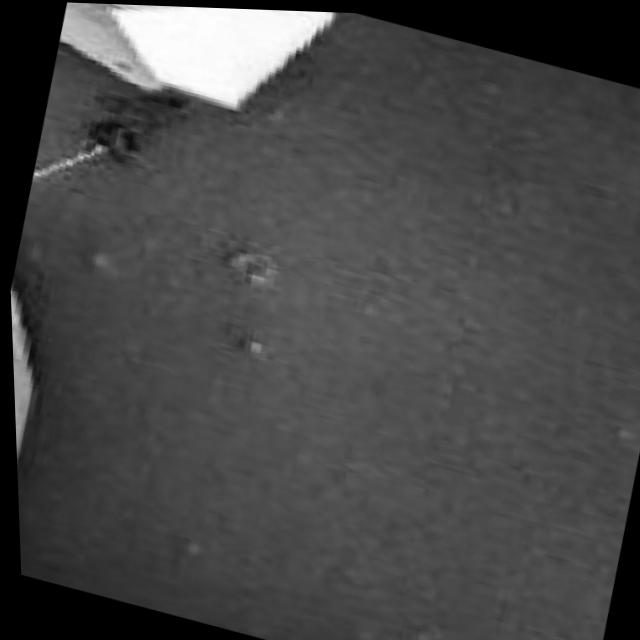Eczema: (229, 254, 279, 294), (80, 241, 125, 285), (243, 320, 273, 369)
